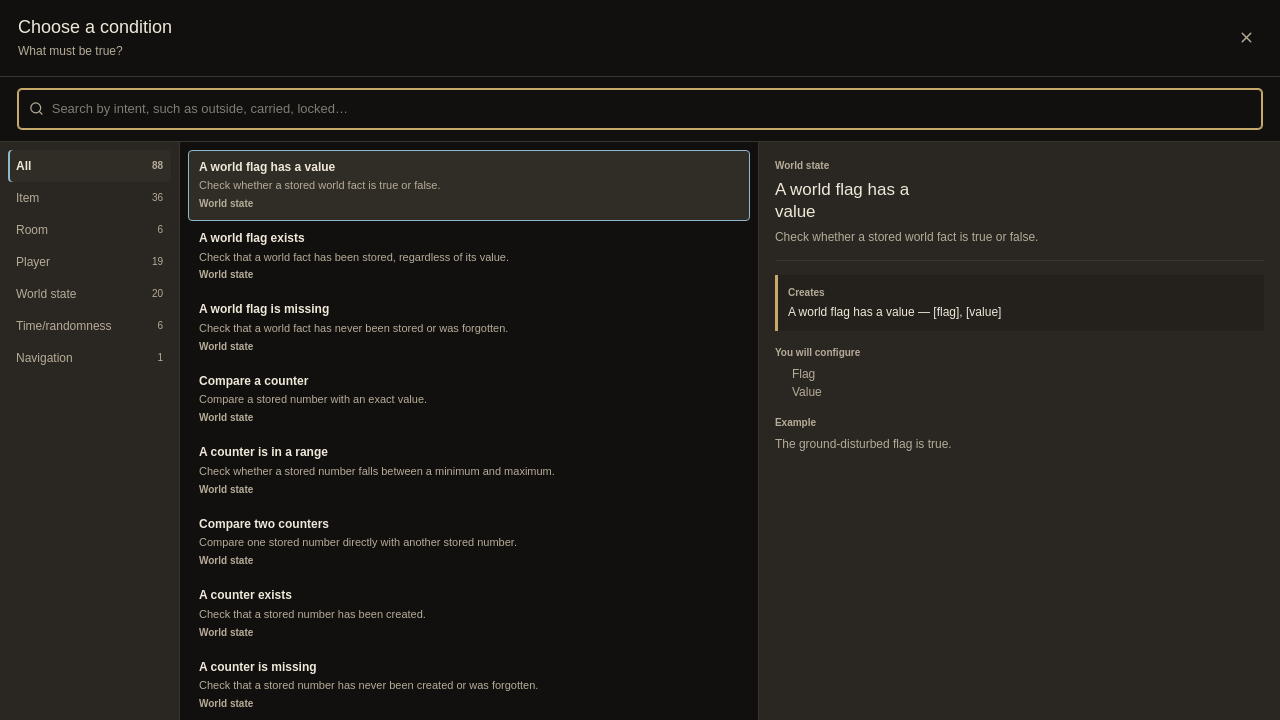
LogicPicker › finds room conditions using scenario language
Type "outside" into the search field named "Search conditions" at (651, 108), box [52,90,1251,128]
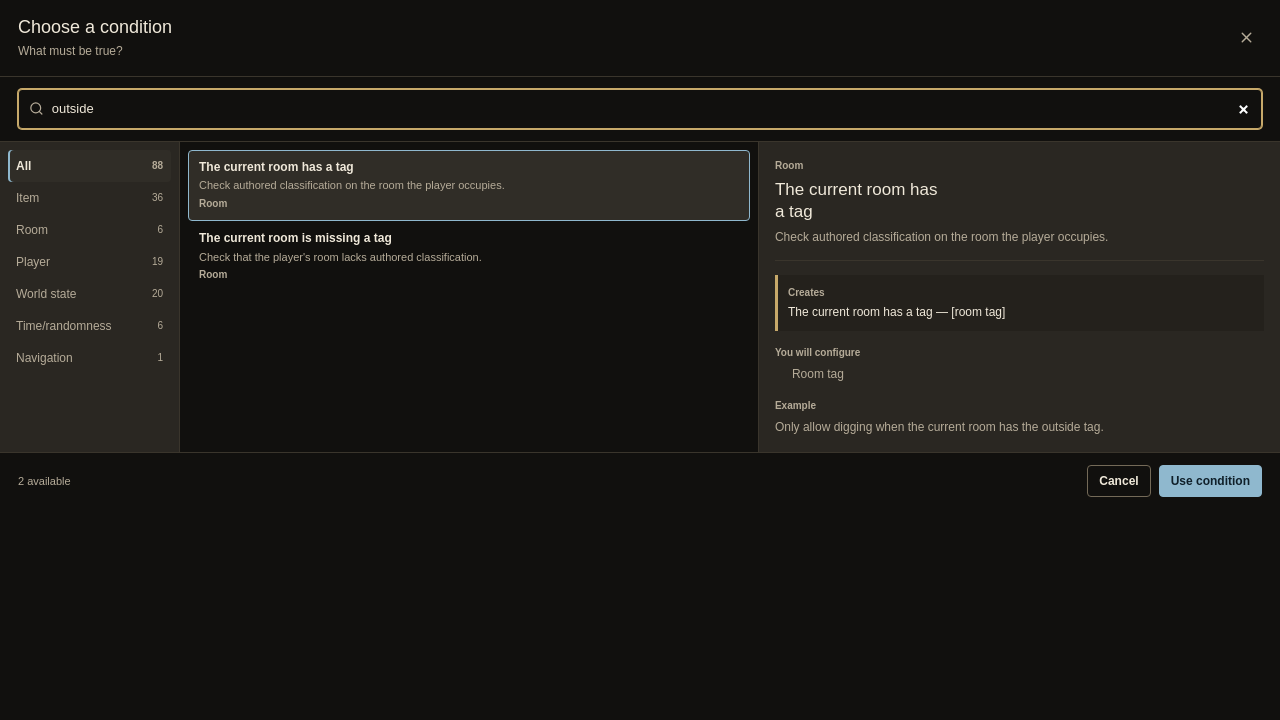
Expected: the option "The current room has a tag" is shown, [188,150,750,221]
Expected: the text "Only allow digging when the current room has the outside tag" is shown, [775,420,1104,434]
